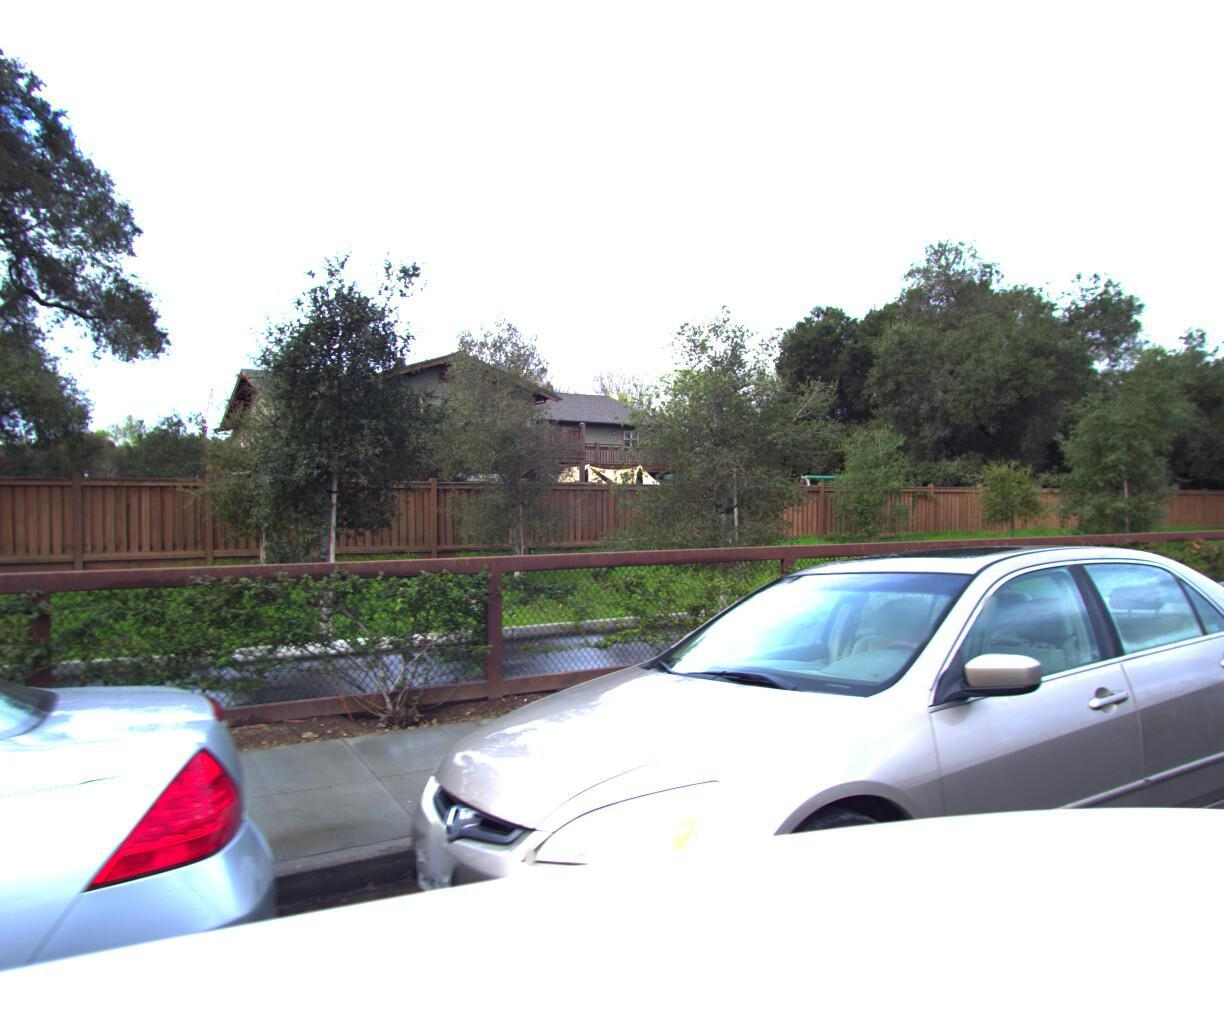car: (357, 535, 1224, 1024), (1115, 524, 1224, 804)
